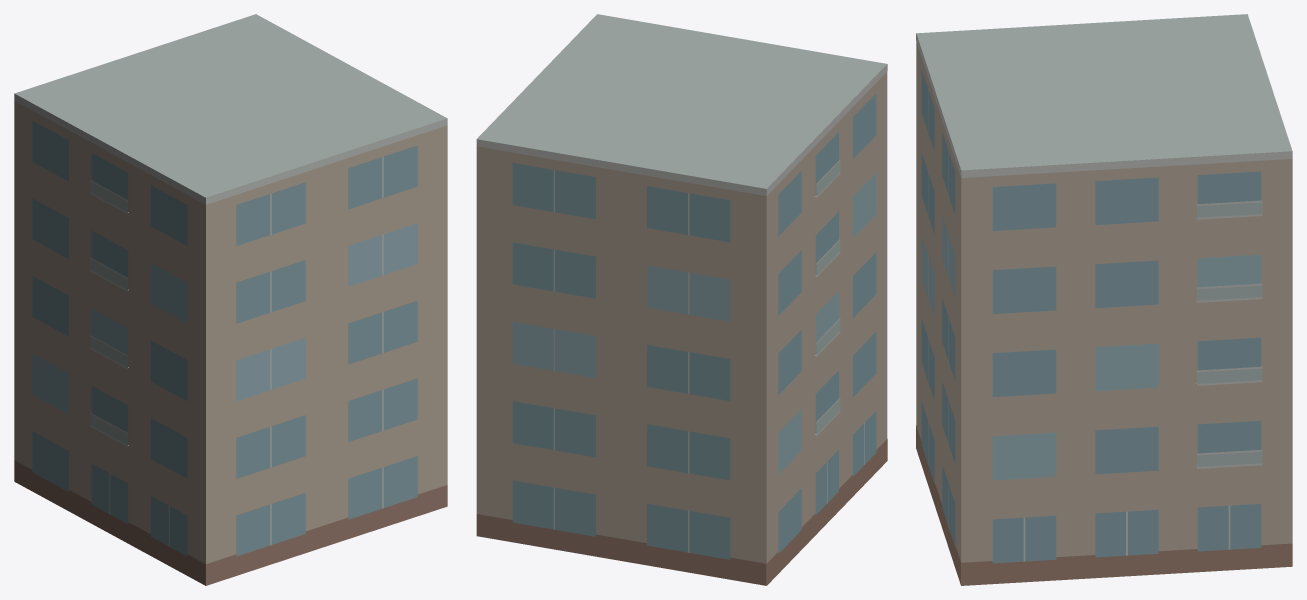
Rendered from survey-upis-32747909.glb.
3 views of the same model, side by side, from view 1: azimuth 30°, elevation 25°; view 2: azimuth 150°, elevation 25°; view 3: azimuth 270°, elevation 25° (orthographic). The views are drawn at different scales.
Parts seen in each view (by area): view 1: survey-upis-32747909.tmp; view 2: survey-upis-32747909.tmp; view 3: survey-upis-32747909.tmp.
Boxes of the visible parts, left/top/right/bottom form: survey-upis-32747909.tmp: left=14, top=14, right=447, bottom=585; survey-upis-32747909.tmp: left=476, top=14, right=887, bottom=585; survey-upis-32747909.tmp: left=916, top=14, right=1292, bottom=585.
Bounding box in the file's own units: 10.83 × 13.4 × 11.01.
